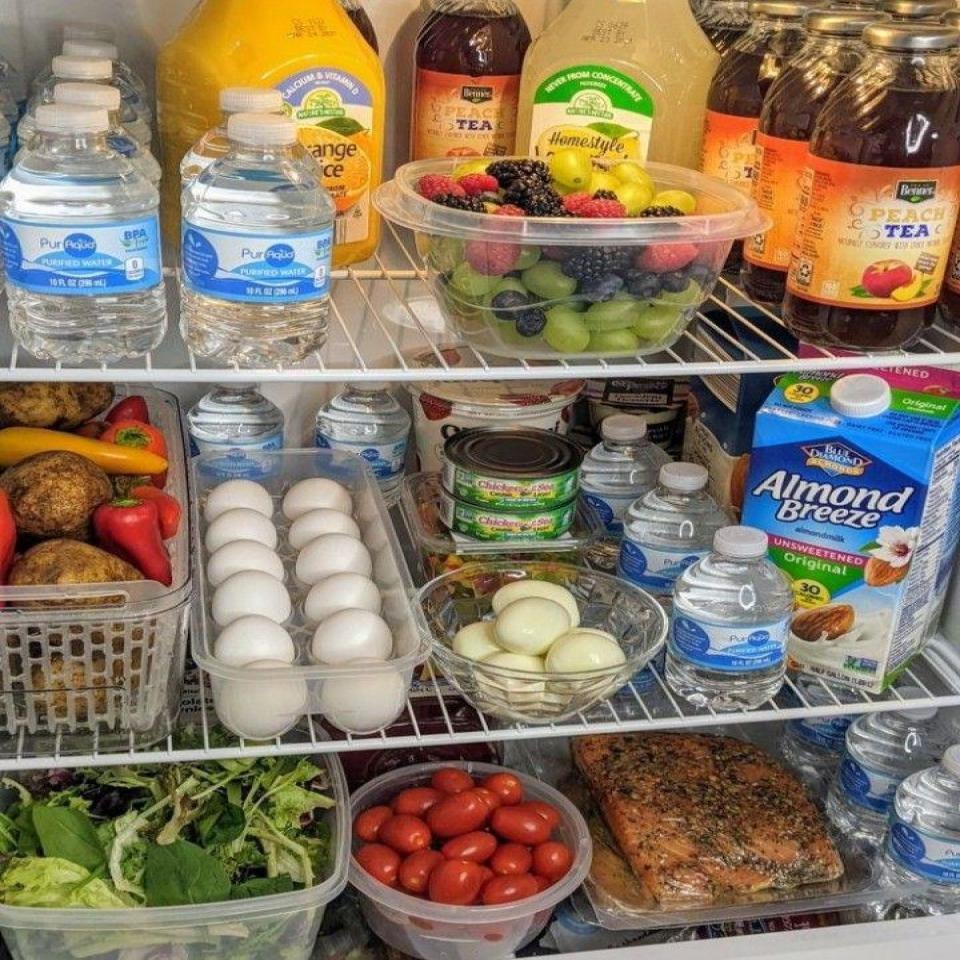Huevos: (198, 478, 406, 737), (454, 578, 630, 715)
Tomate: (351, 766, 575, 911)
